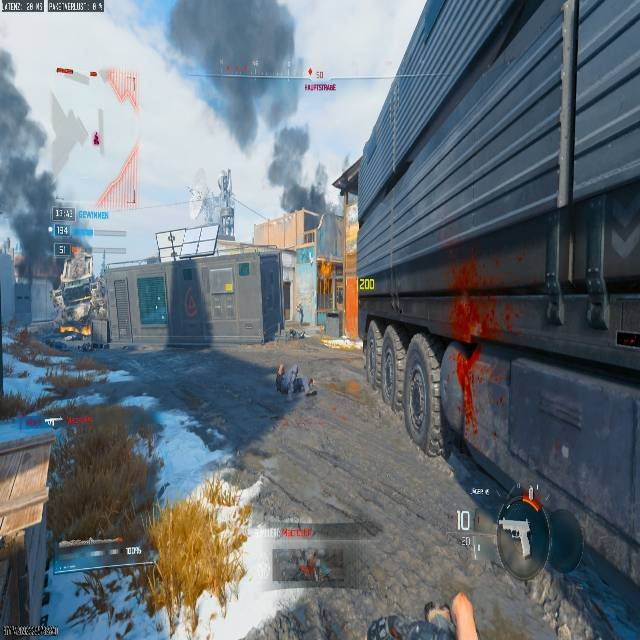head: (66, 243, 82, 260)
player: (50, 243, 97, 343), (296, 302, 304, 323)
